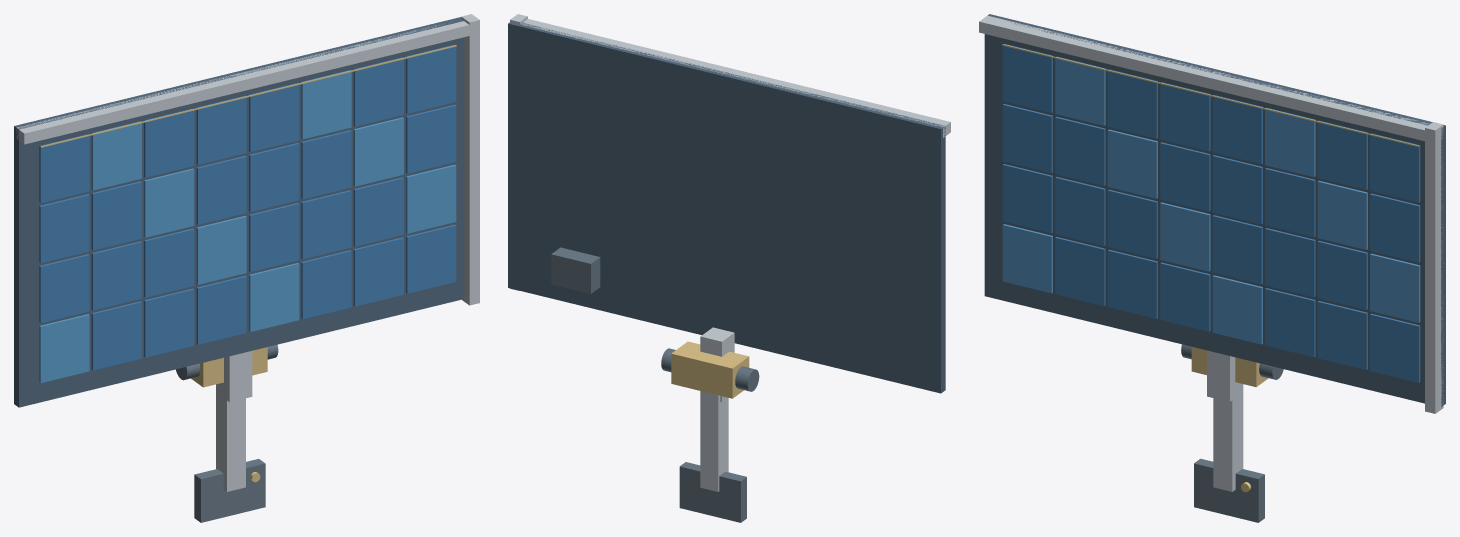
File: solar_body.glb
The picture shows the model from 3 angles, left to right: view 1: azimuth 30°, elevation 25°; view 2: azimuth 150°, elevation 25°; view 3: azimuth 330°, elevation 25°; orthographic projection. The views are drawn at different scales.
Parts seen in each view (by area): view 1: Solar_Array_Backplate, Short_Frame_Rail, Long_Frame_Rail, PV_Cell_R1_C2, PV_Cell_R1_C6, PV_Cell_R2_C2, PV_Cell_R3_C2, PV_Cell_R3_C6, PV_Cell_R1_C7, PV_Cell_R2_C3, PV_Cell_R2_C6, PV_Cell_R2_C7 (+28 smaller); view 2: Solar_Array_Backplate, Short_Frame_Rail, Deployment_Hinge_Block, Mounting_Foot, Mounting_Boom, Array_Junction_Box, Rear_Central_Spine, Hinge_Pivot; view 3: Solar_Array_Backplate, Short_Frame_Rail, Long_Frame_Rail, PV_Cell_R1_C6, PV_Cell_R1_C2, PV_Cell_R2_C2, PV_Cell_R2_C3, PV_Cell_R2_C4, PV_Cell_R2_C5, PV_Cell_R2_C6, PV_Cell_R2_C8, PV_Cell_R3_C2 (+28 smaller).
Boxes of the visible parts, x1,y1,x2,y2 form: Solar_Array_Backplate: (14,17,463,407); Short_Frame_Rail: (16,21,479,144); Long_Frame_Rail: (461,14,479,305); PV_Cell_R1_C2: (91,301,141,370); PV_Cell_R1_C6: (301,250,351,319); PV_Cell_R2_C2: (91,241,141,310); PV_Cell_R3_C2: (91,181,141,250); PV_Cell_R3_C6: (301,130,351,199); PV_Cell_R1_C7: (353,237,403,306); PV_Cell_R2_C3: (144,228,194,297); PV_Cell_R2_C6: (301,190,351,259); PV_Cell_R2_C7: (353,177,403,246); Solar_Array_Backplate: (508,22,945,393); Short_Frame_Rail: (521,19,950,137); Deployment_Hinge_Block: (671,341,749,398); Mounting_Foot: (679,462,746,522); Mounting_Boom: (700,391,728,491); Array_Junction_Box: (551,247,600,293); Rear_Central_Spine: (700,327,734,401); Hinge_Pivot: (661,348,759,391); Solar_Array_Backplate: (984,14,1445,406); Short_Frame_Rail: (979,15,1443,143); Long_Frame_Rail: (1425,122,1443,413); PV_Cell_R1_C6: (1265,288,1315,357); PV_Cell_R1_C2: (1055,237,1105,305); PV_Cell_R2_C2: (1055,176,1105,245); PV_Cell_R2_C3: (1107,189,1157,258); PV_Cell_R2_C4: (1160,202,1210,271); PV_Cell_R2_C5: (1212,215,1262,284); PV_Cell_R2_C6: (1265,228,1315,297); PV_Cell_R2_C8: (1370,253,1420,322); PV_Cell_R3_C2: (1055,116,1105,185).
Size of the model in its own units: 2.4 by 2.28 by 0.3125.
